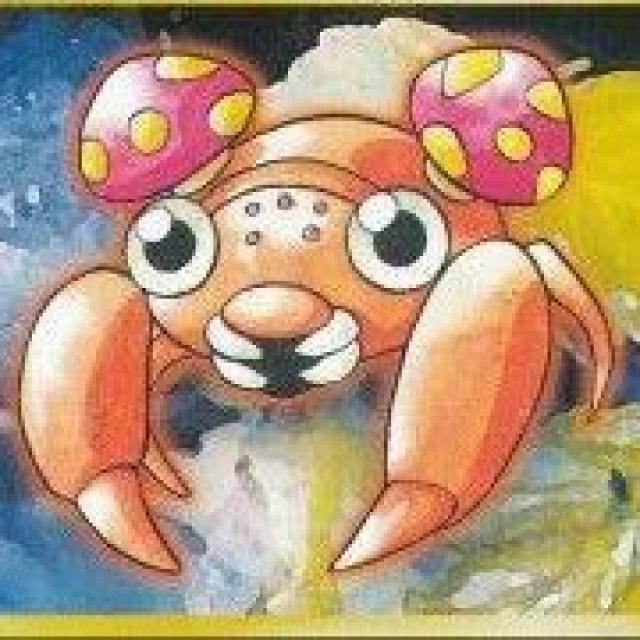Paras: (23, 45, 575, 557)
